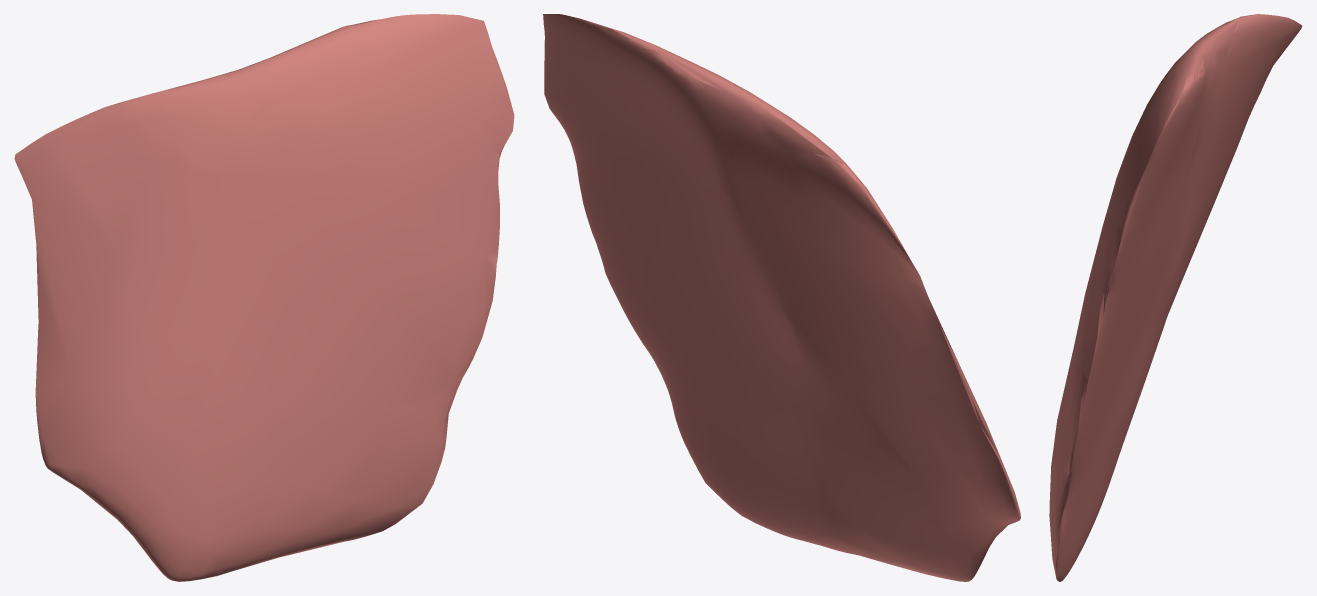
File: fma37395_mm2002m.glb
The picture shows the model from 3 angles, left to right: view 1: azimuth 30°, elevation 25°; view 2: azimuth 150°, elevation 25°; view 3: azimuth 270°, elevation 25°; orthographic projection. The views are drawn at different scales.
Visible parts, largest first — view 1: FMA37395_MM2002M; view 2: FMA37395_MM2002M; view 3: FMA37395_MM2002M.
Boxes of the visible parts, x1,y1,x2,y2 form: FMA37395_MM2002M: (14,14,514,581); FMA37395_MM2002M: (543,14,1020,581); FMA37395_MM2002M: (1049,14,1302,581).
Bounding box in the file's own units: 0.0184 × 0.0183 × 0.00793.
